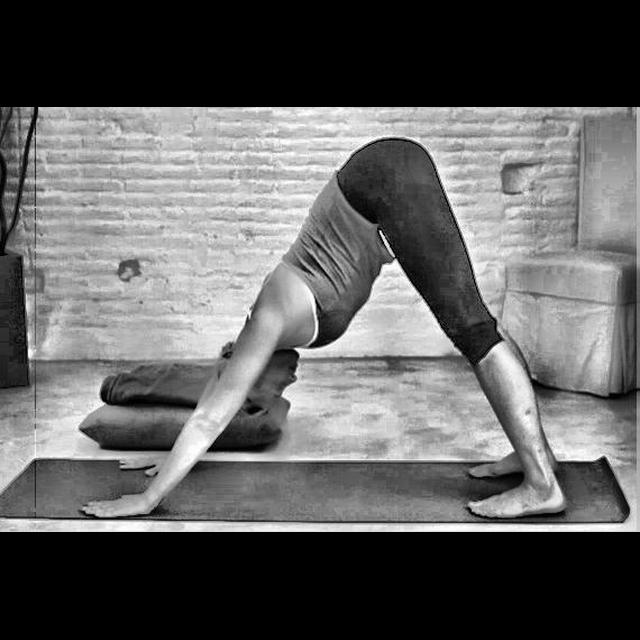Downward-Facing_Dog: (73, 132, 572, 526)
